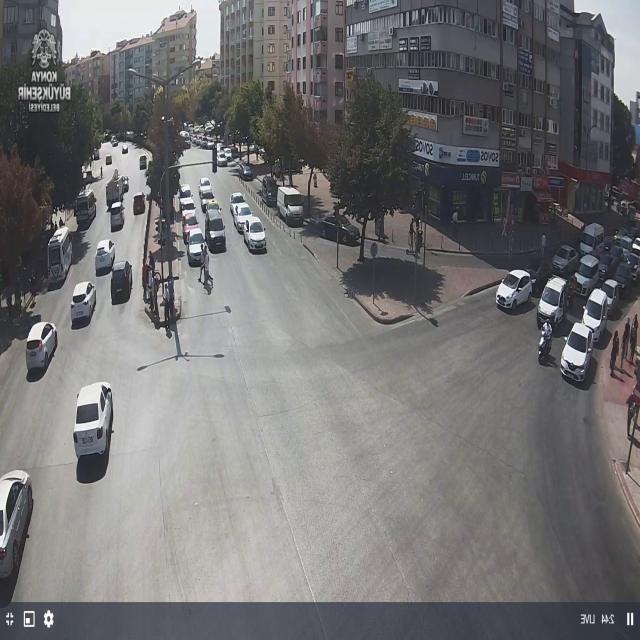Car: (70, 380, 116, 462), (0, 471, 33, 579), (560, 324, 596, 382), (308, 213, 362, 244), (25, 321, 57, 373), (538, 276, 570, 326), (581, 288, 611, 341), (497, 269, 533, 311), (571, 254, 601, 294), (70, 282, 96, 324), (595, 278, 623, 314), (611, 260, 637, 296), (205, 208, 227, 250), (550, 245, 579, 276), (242, 216, 266, 252), (593, 247, 619, 280), (111, 260, 132, 298), (580, 222, 604, 255), (186, 228, 207, 264), (75, 188, 96, 224), (230, 200, 252, 232), (95, 239, 116, 272), (183, 217, 202, 246), (260, 177, 278, 206), (614, 234, 635, 255), (179, 198, 197, 222), (109, 202, 125, 229), (198, 178, 214, 202), (229, 192, 246, 214), (201, 195, 218, 216), (132, 192, 146, 214), (238, 163, 254, 180), (179, 182, 192, 200), (216, 153, 228, 166), (120, 176, 129, 193), (223, 148, 233, 160), (139, 155, 147, 169), (228, 145, 239, 155), (205, 140, 215, 150), (190, 136, 199, 146), (199, 140, 208, 148), (215, 143, 223, 152), (122, 144, 128, 154), (106, 154, 112, 164), (112, 138, 118, 146)
Cycle: (537, 317, 552, 363)
Van: (46, 226, 72, 282), (275, 186, 304, 225)
